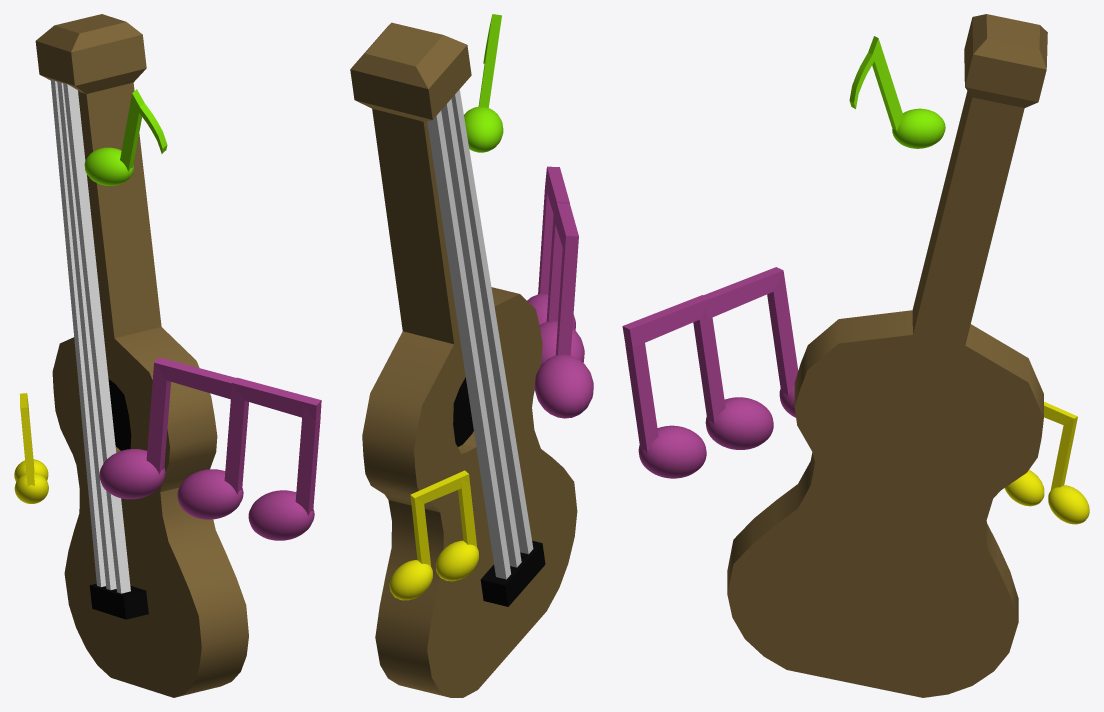
Rendered from CollectObjectGuitar.fbx.
3 views of the same model, side by side, from view 1: azimuth 30°, elevation 25°; view 2: azimuth 150°, elevation 25°; view 3: azimuth 270°, elevation 25° (orthographic). The views are drawn at different scales.
Visible parts, largest first — view 1: pCube58; view 2: pCube58; view 3: pCube58.
Part boxes in pixels (bbox=[...]): pCube58: bbox=[14, 14, 321, 697]; pCube58: bbox=[350, 14, 593, 697]; pCube58: bbox=[622, 14, 1089, 697].
Bounding box in the file's own units: 0.7122 × 3.17 × 2.03.
